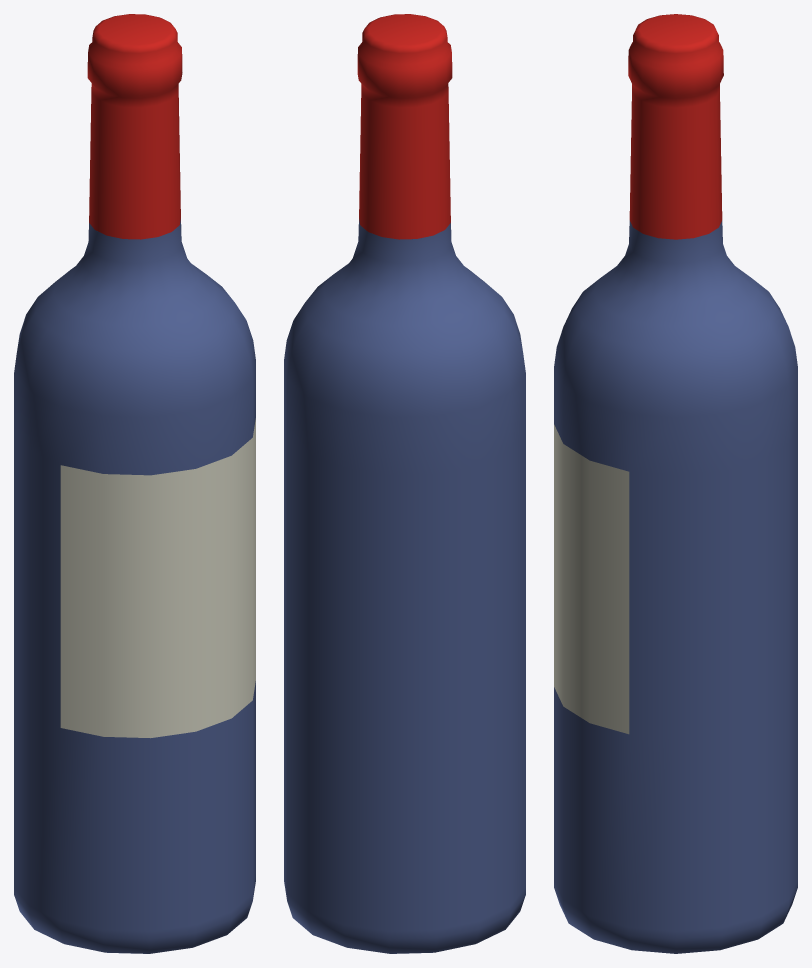
File: Wine_Bottle.glb
3 views of the same model, side by side, from view 1: azimuth 30°, elevation 25°; view 2: azimuth 150°, elevation 25°; view 3: azimuth 270°, elevation 25° (orthographic).
Visible parts, largest first — view 1: huitugou_2062_401, huitugou_2062_399, huitugou_2062_400; view 2: huitugou_2062_401, huitugou_2062_400; view 3: huitugou_2062_401, huitugou_2062_399, huitugou_2062_400.
Boxes of the visible parts, x1=… form: huitugou_2062_401: x1=14, y1=219, x2=255, y2=953; huitugou_2062_399: x1=60, y1=418, x2=255, y2=738; huitugou_2062_400: x1=87, y1=14, x2=182, y2=239; huitugou_2062_401: x1=284, y1=219, x2=525, y2=953; huitugou_2062_400: x1=357, y1=14, x2=452, y2=239; huitugou_2062_401: x1=554, y1=220, x2=797, y2=953; huitugou_2062_399: x1=554, y1=424, x2=629, y2=734; huitugou_2062_400: x1=628, y1=14, x2=723, y2=239.
Size of the model in its own units: 0.0627 by 0.2494 by 0.0627.
